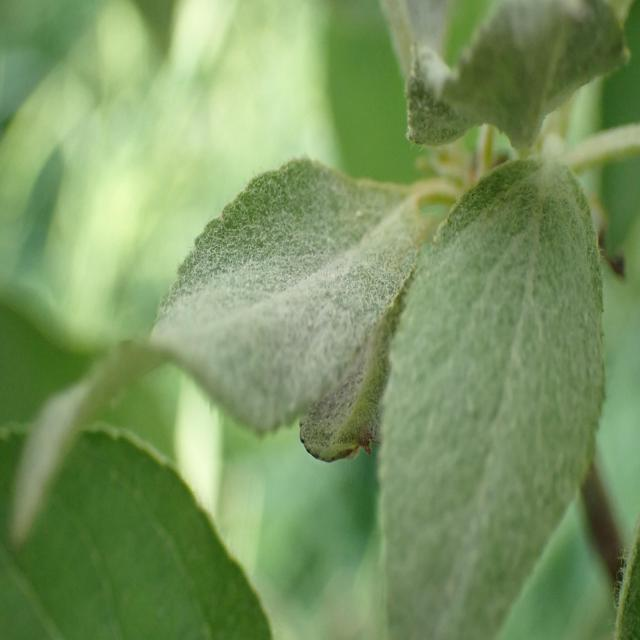Powdery_mildew: (371, 162, 603, 640), (128, 151, 420, 461), (398, 0, 634, 143)
